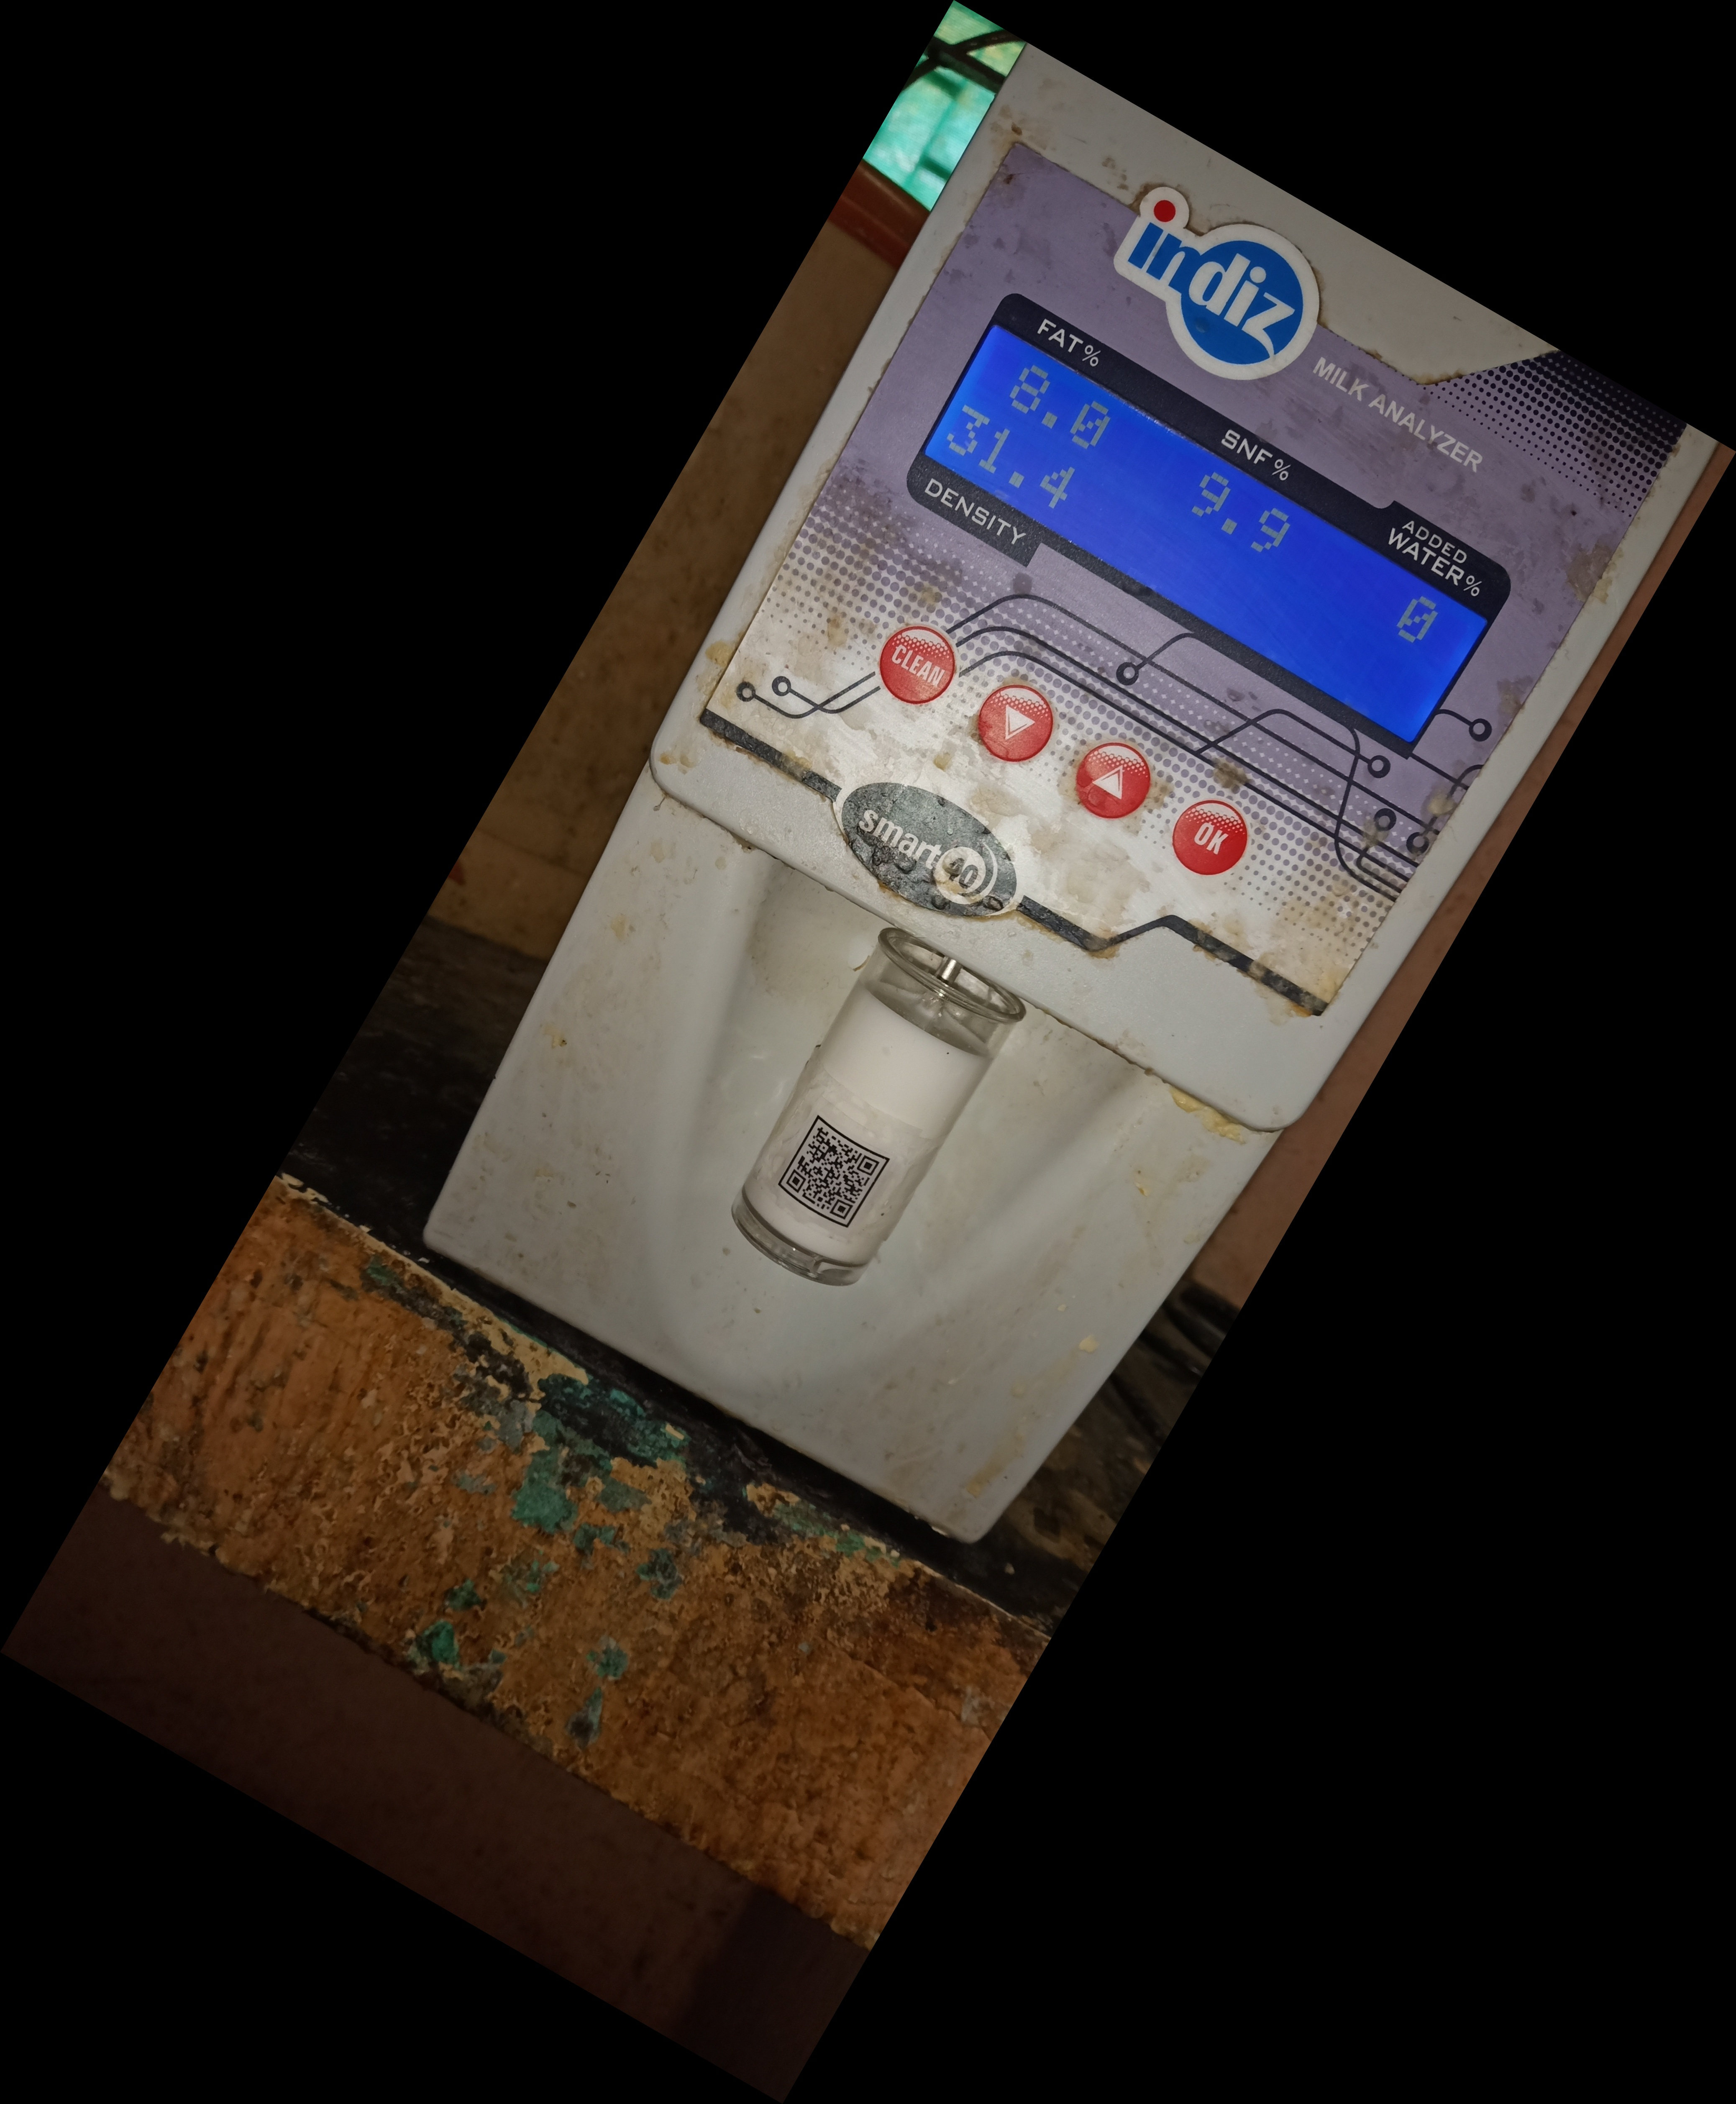lcd: (873, 241, 1528, 781)
qr: (767, 1110, 905, 1258)
